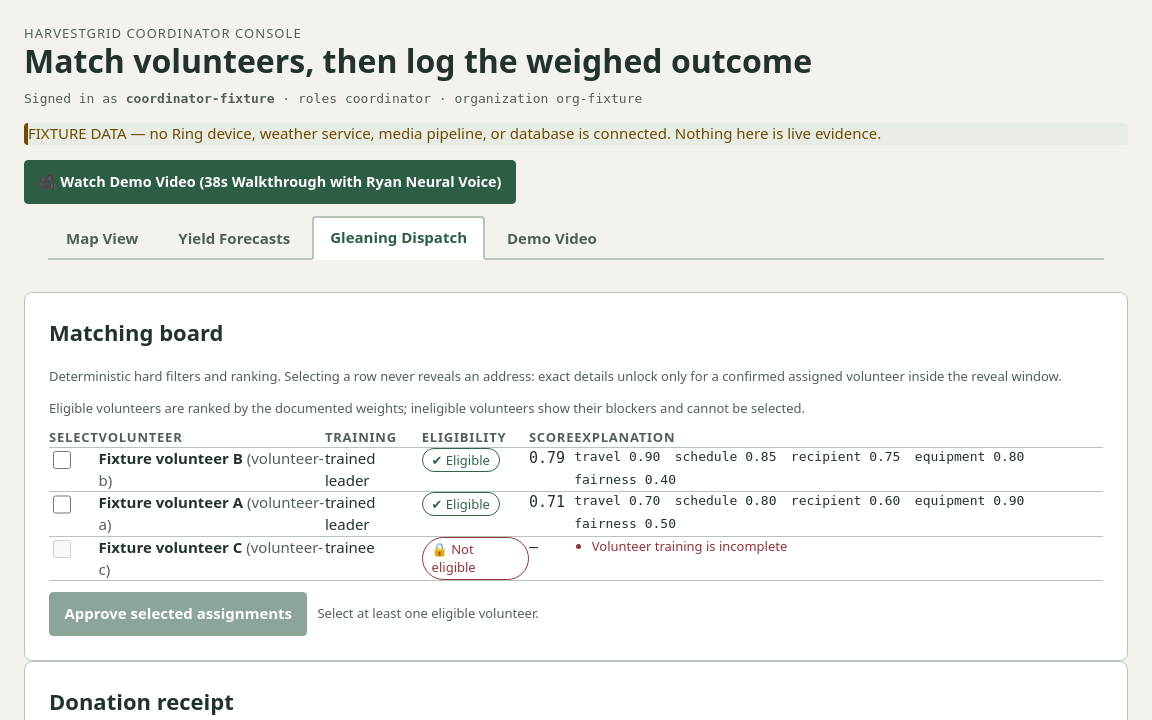
it: coordinator dashboard › blocks approval until an eligible volunteer is selected
Expected: the button "Approve selected assignments" is disabled, top-left (49, 592), bottom-right (308, 636)
Click the checkbox next to "Fixture volunteer B": click(62, 460) top-left (53, 451), bottom-right (71, 469)
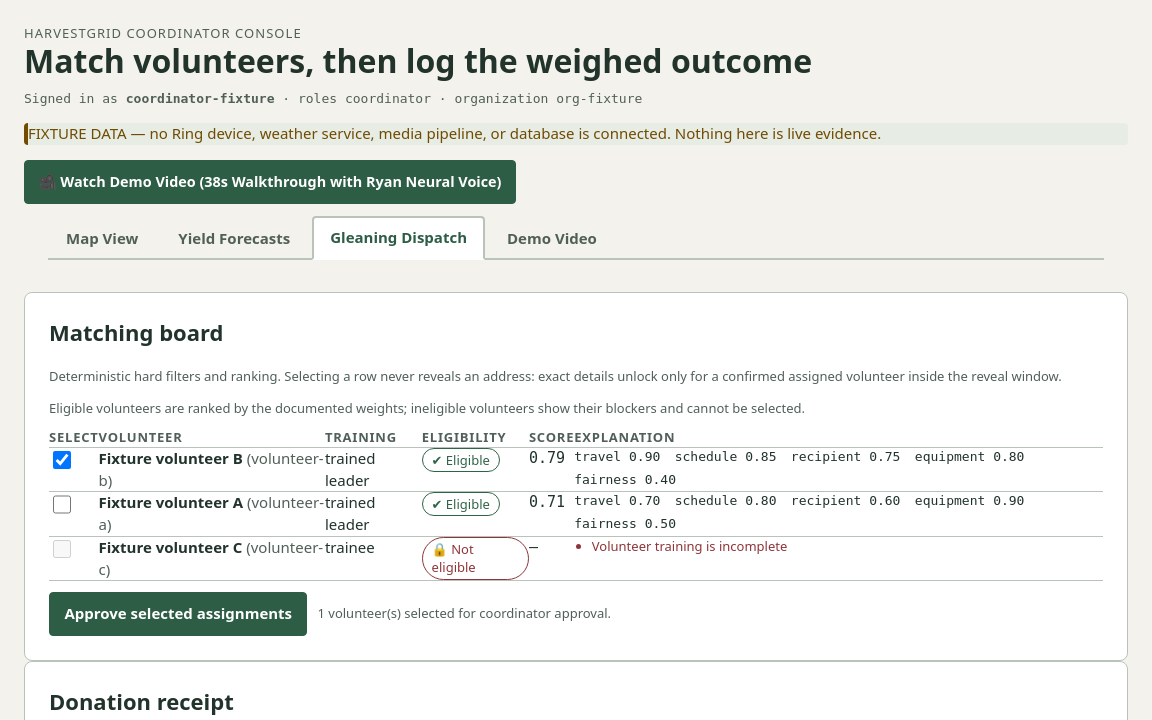
Now the text "1 volunteer(s) selected" is shown, box top-left (318, 604), bottom-right (611, 622)
Now the button "Approve selected assignments" is enabled
Click the button "Approve selected assignments": click(178, 614) top-left (49, 592), bottom-right (308, 636)
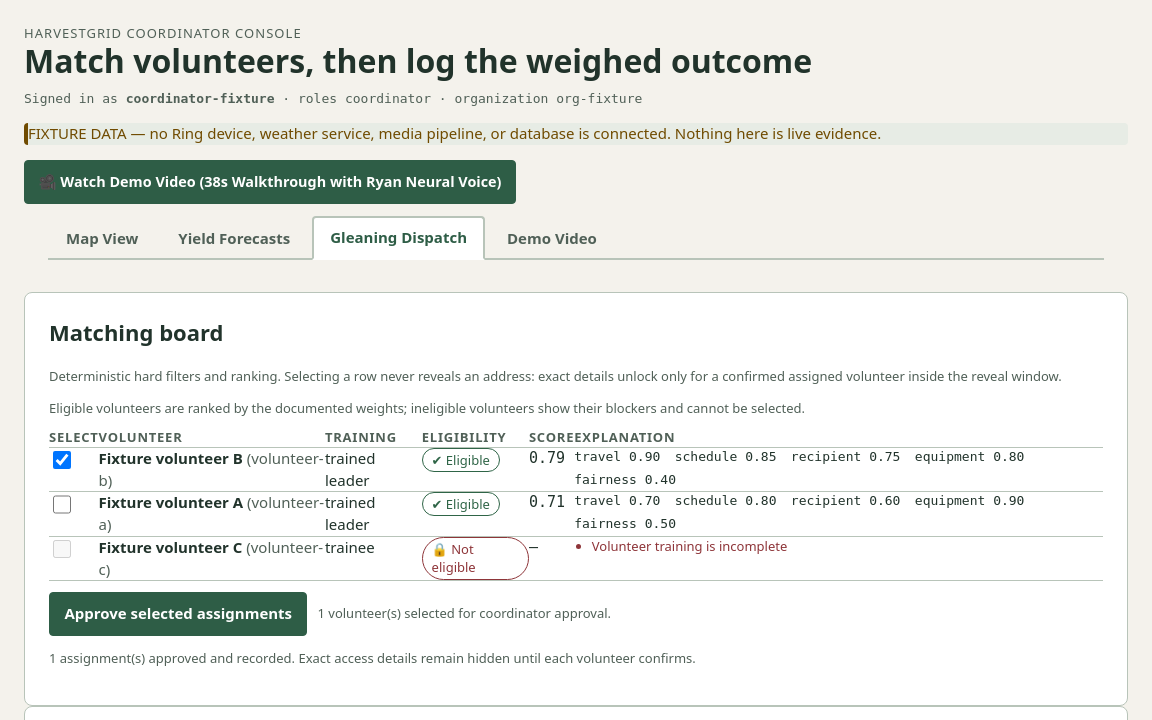
Now the text "1 assignment(s) approved" is shown, box top-left (49, 649), bottom-right (696, 667)
Now the text "Exact access details remain hidden" is shown, box top-left (49, 649), bottom-right (696, 667)
